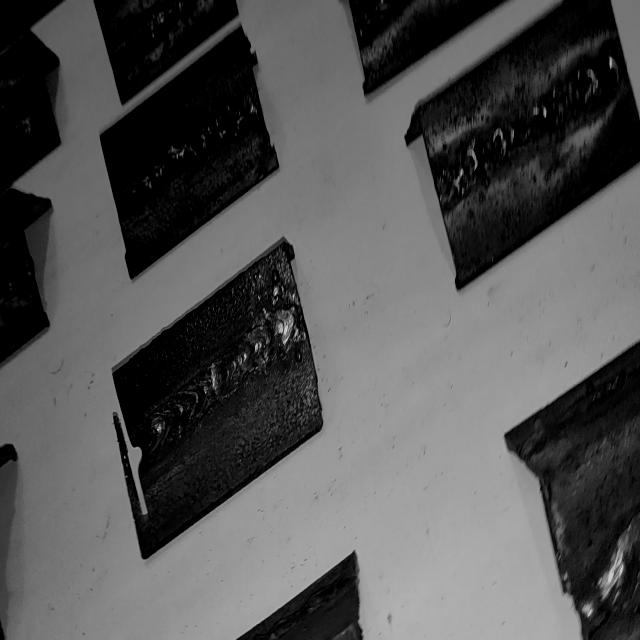Bad Weld: (442, 45, 619, 191), (115, 91, 258, 212)
Defect: (438, 45, 622, 201), (119, 95, 255, 203)
Good Weld: (144, 305, 298, 460)
